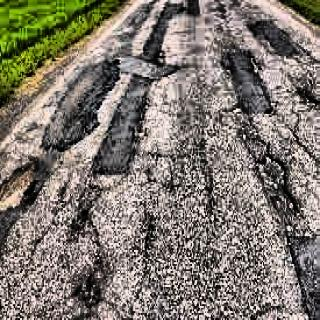pothole: (254, 150, 302, 228), (66, 267, 129, 320), (1, 153, 39, 212)
